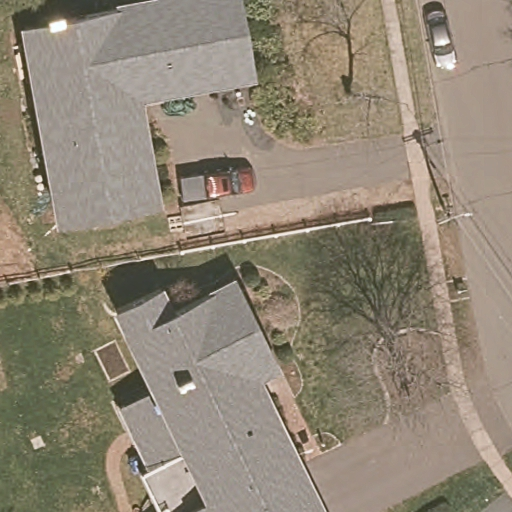DT: (436, 191, 472, 228)
